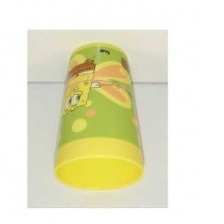glass: (48, 36, 155, 193)
